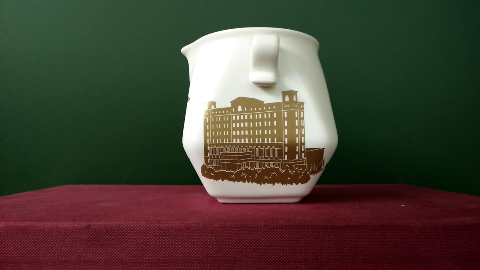law: (206, 104, 313, 179)
